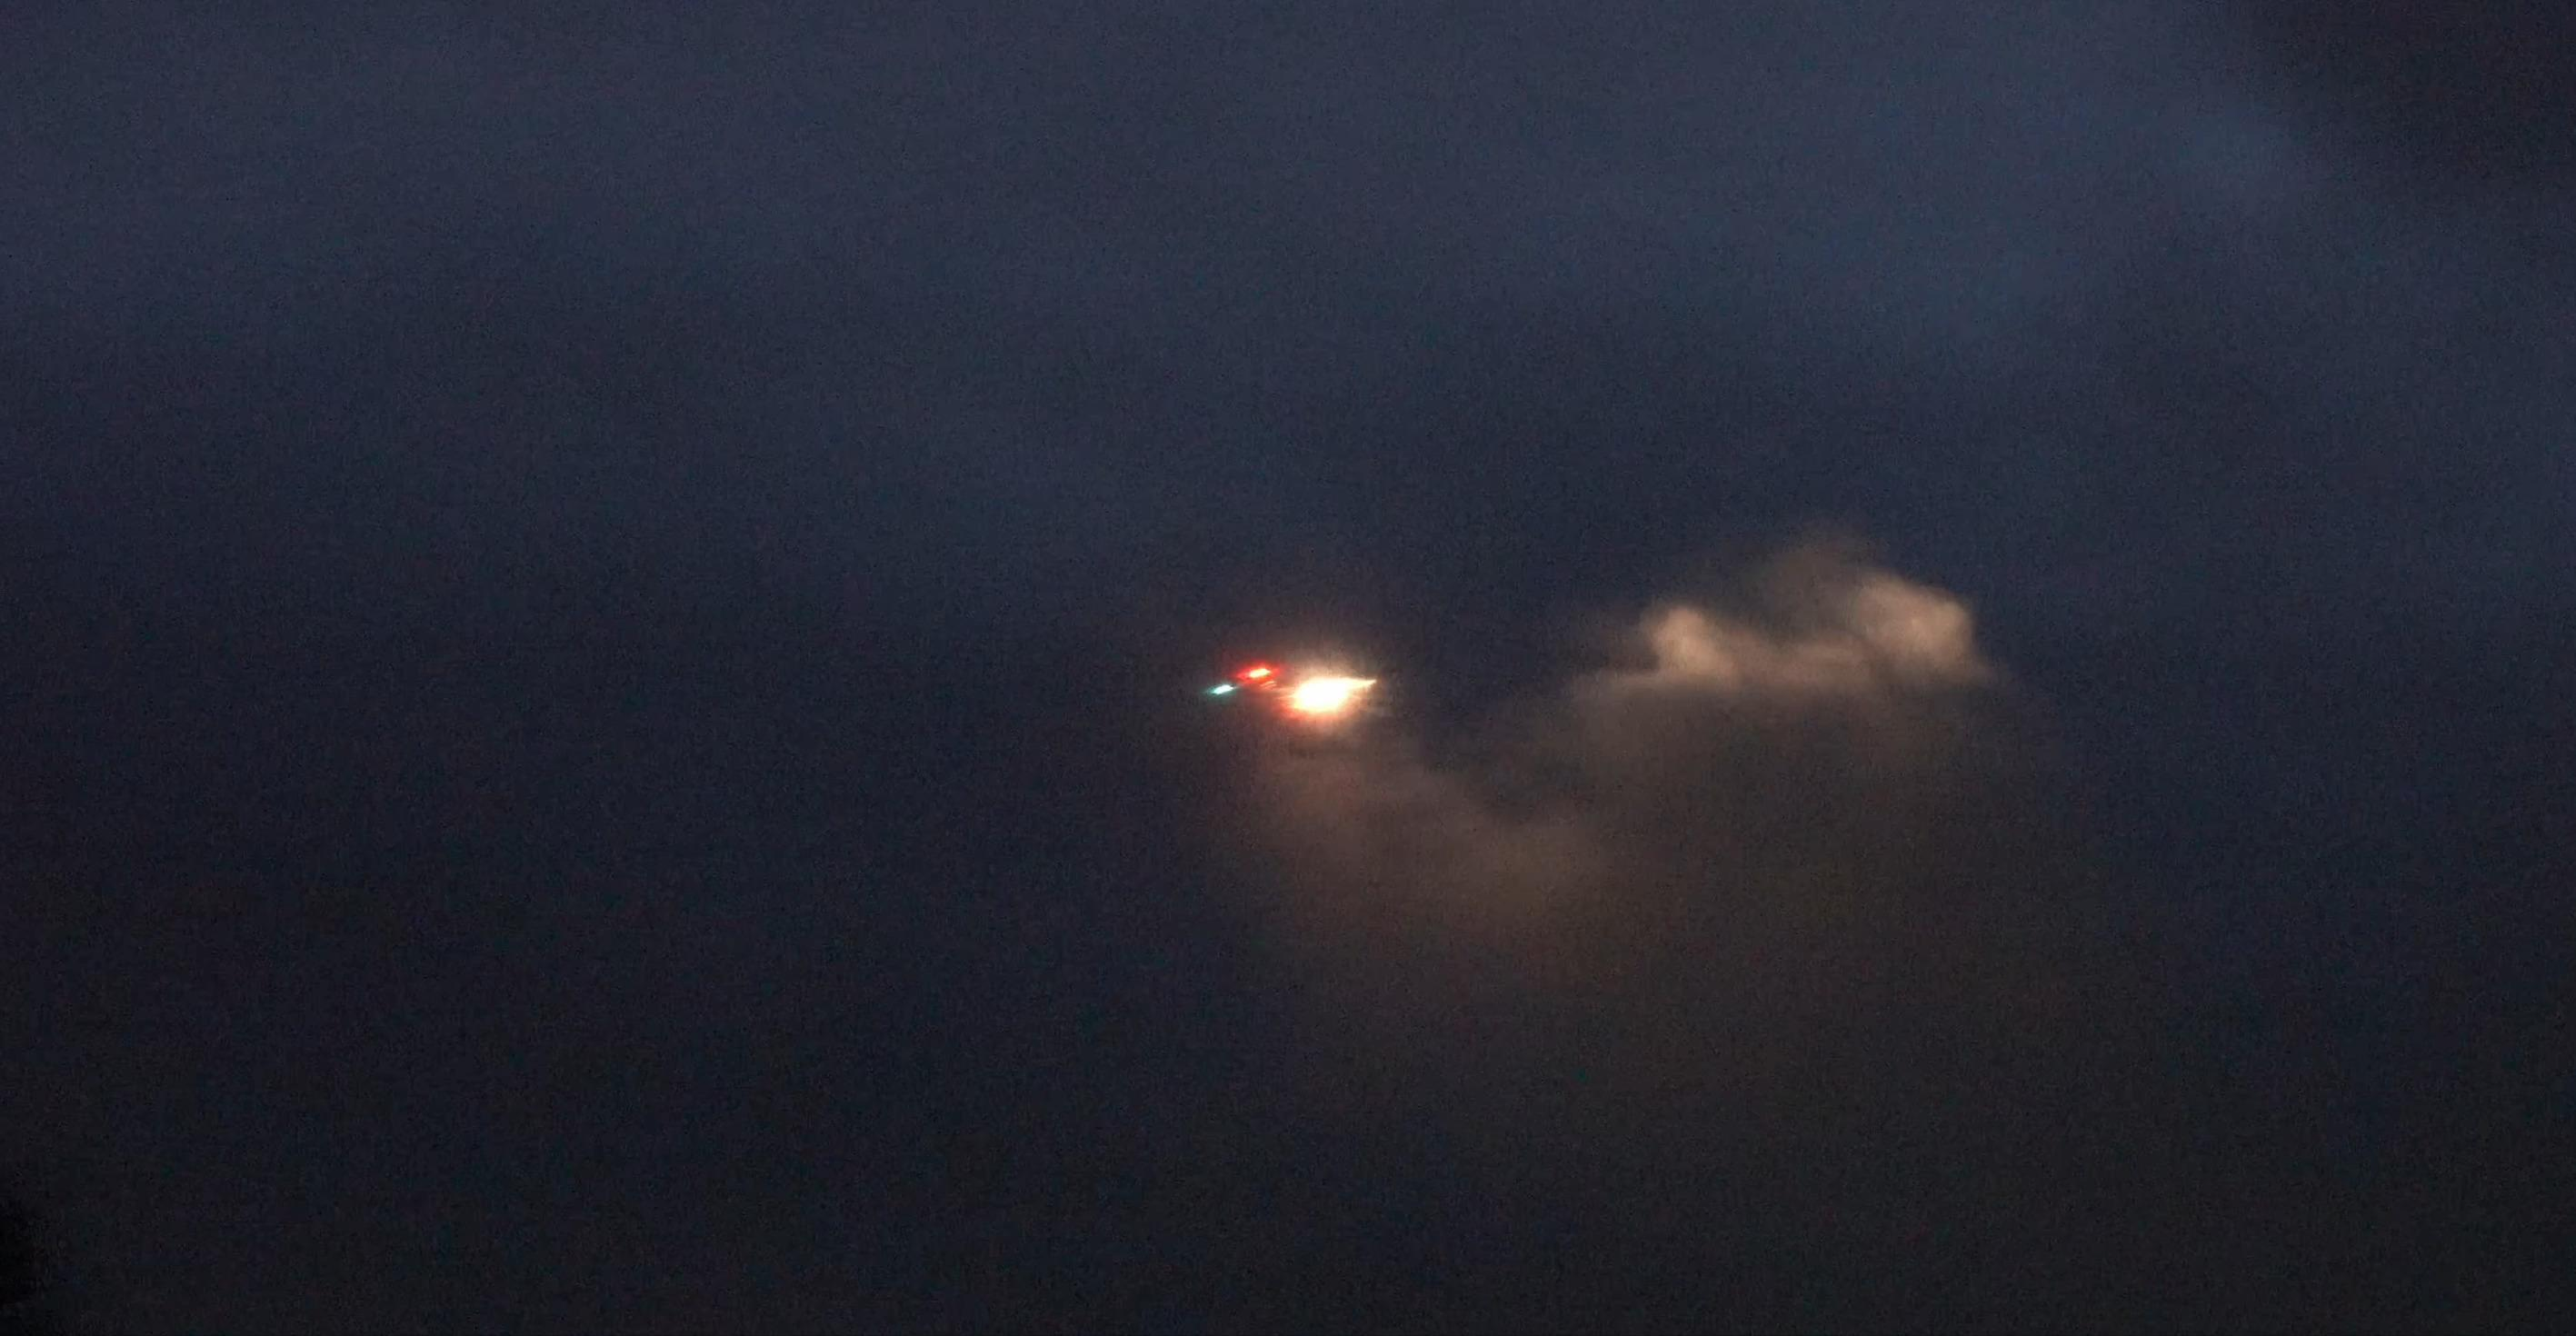Plane: (1101, 595, 1429, 760)
